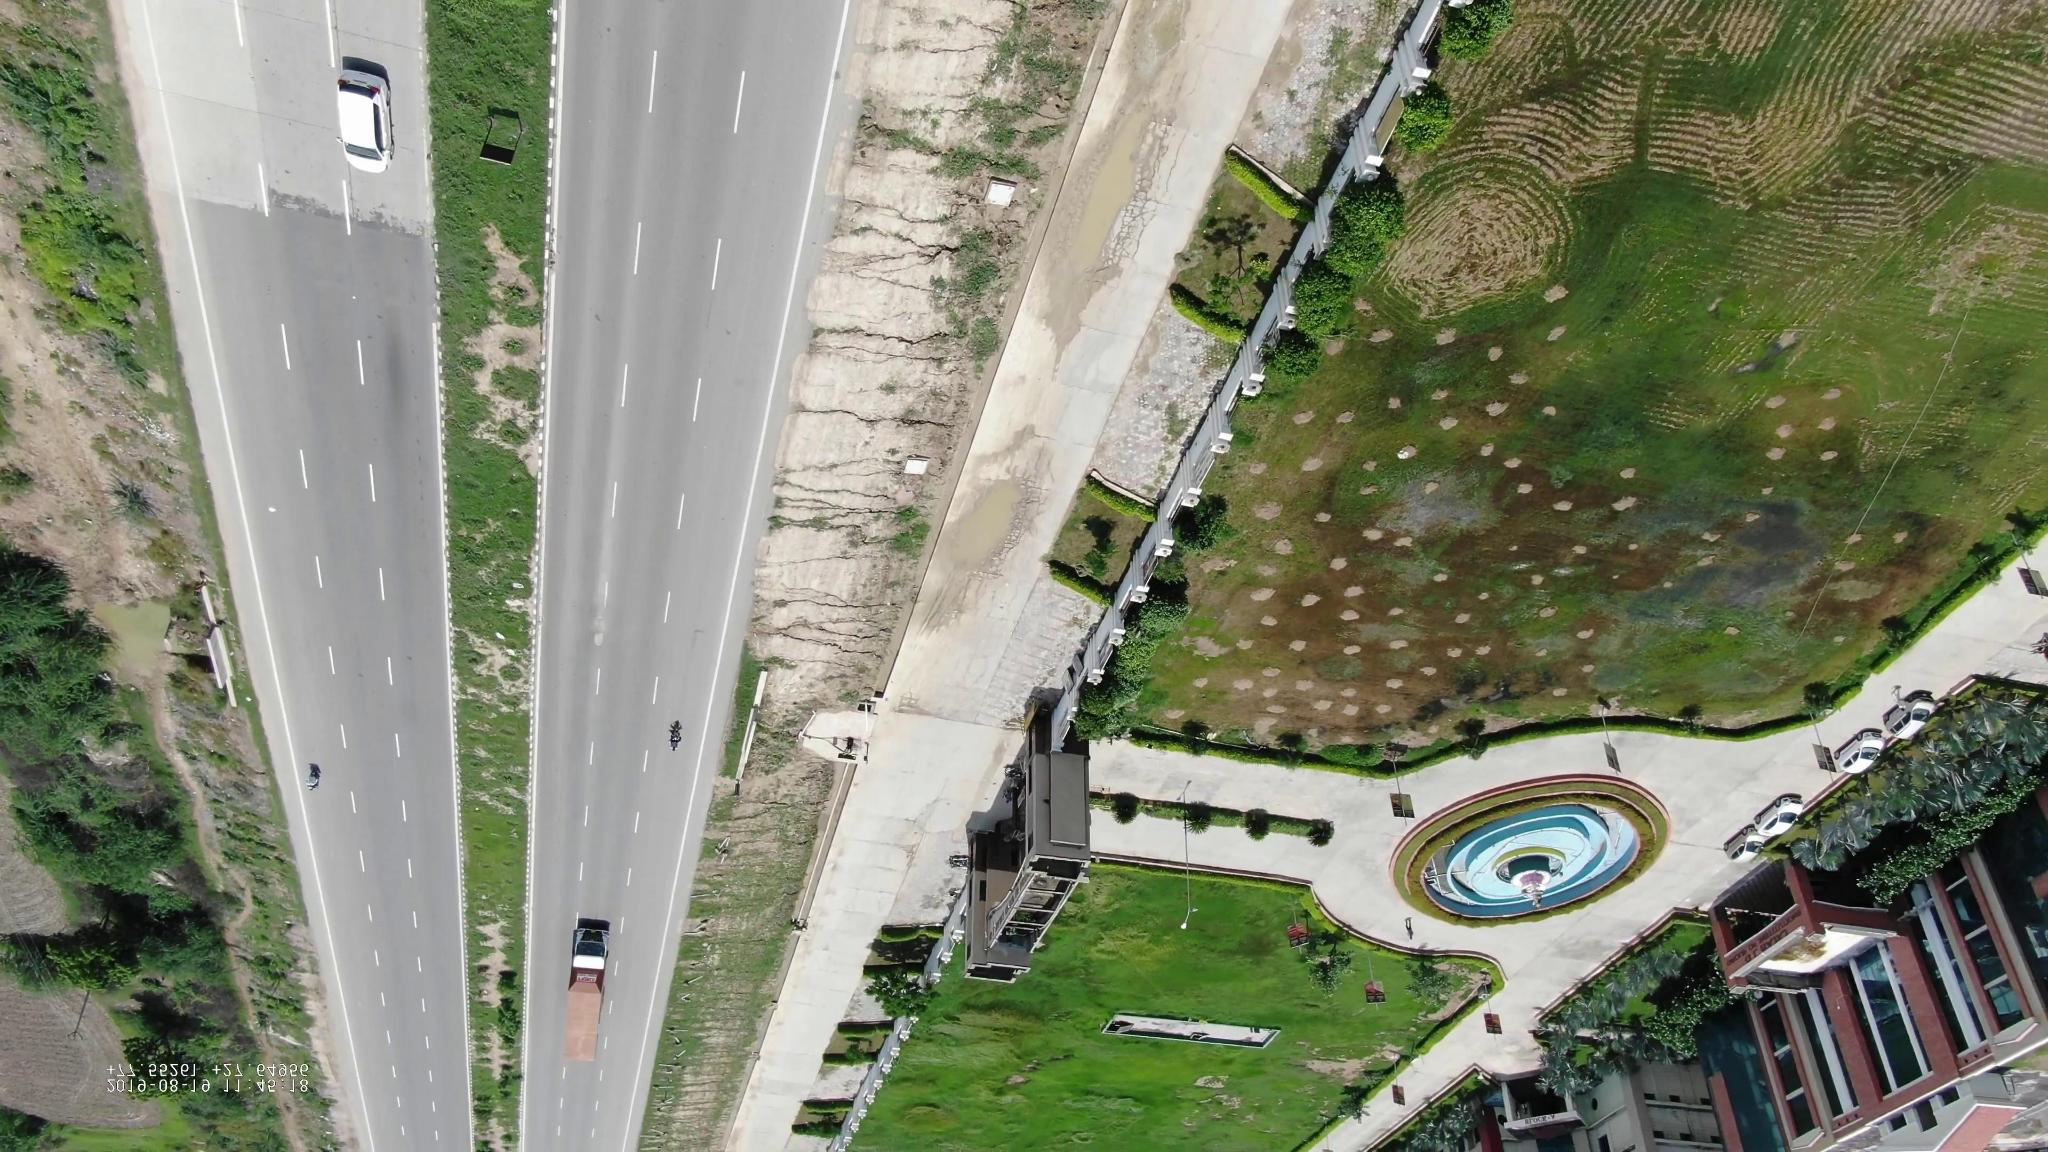Cracks: (1110, 156, 1167, 263)
